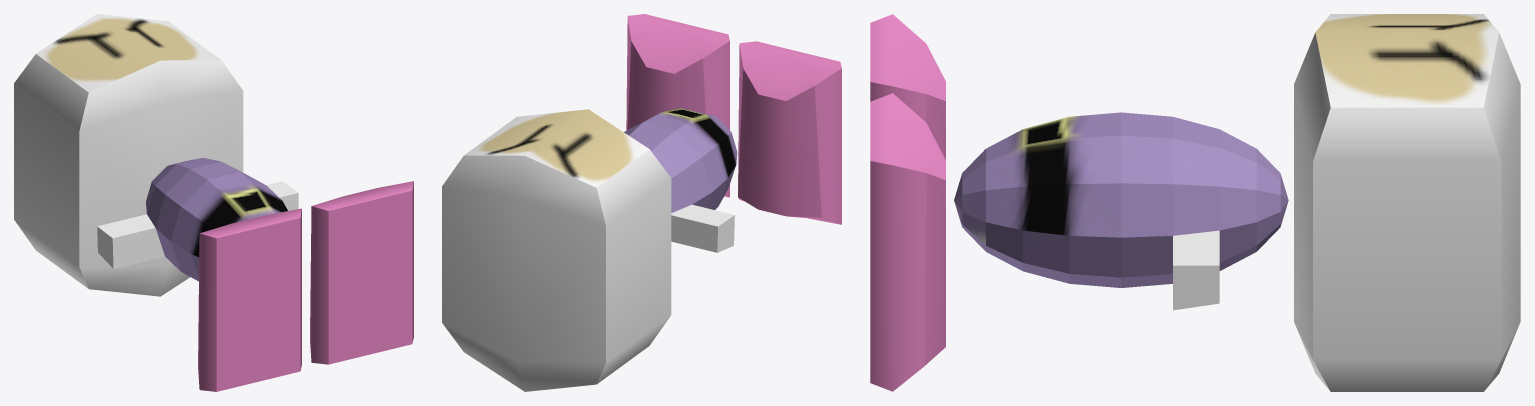
The model's file is Bomberman.fbx.
The picture shows the model from 3 angles, left to right: view 1: azimuth 30°, elevation 25°; view 2: azimuth 150°, elevation 25°; view 3: azimuth 270°, elevation 25°; orthographic projection. The views are drawn at different scales.
Parts seen in each view (by area): view 1: Bomberman; view 2: Bomberman; view 3: Bomberman.
Boxes of the visible parts, x1=… form: Bomberman: x1=14, y1=14, x2=413, y2=391; Bomberman: x1=442, y1=14, x2=841, y2=391; Bomberman: x1=870, y1=14, x2=1520, y2=391.
Bounding box in the file's own units: 50.27 × 52.94 × 91.41.
1 material, 1 textured.
